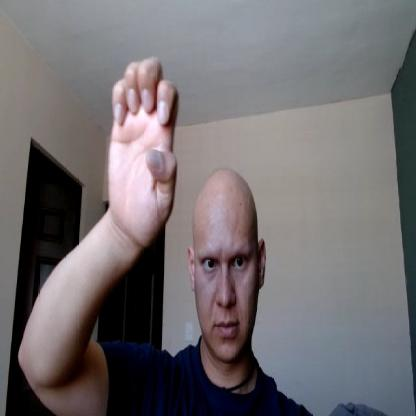E: (107, 54, 182, 245)
